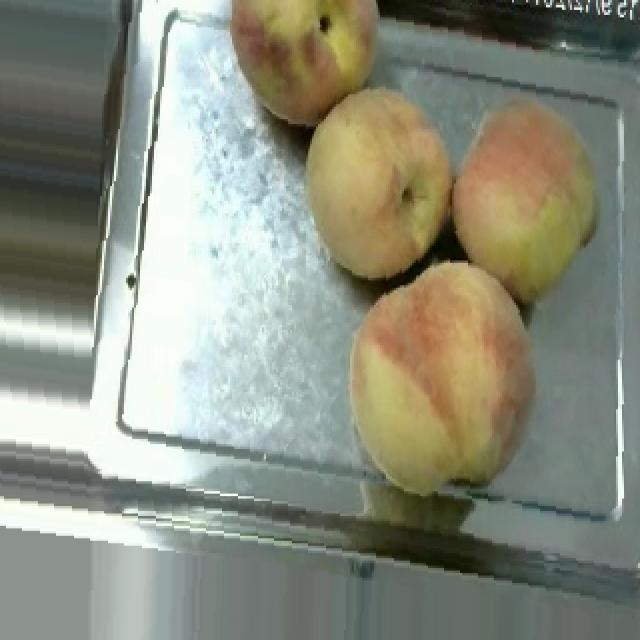Fruit: (332, 248, 550, 506), (290, 69, 468, 293), (448, 80, 618, 312), (212, 0, 396, 139)
